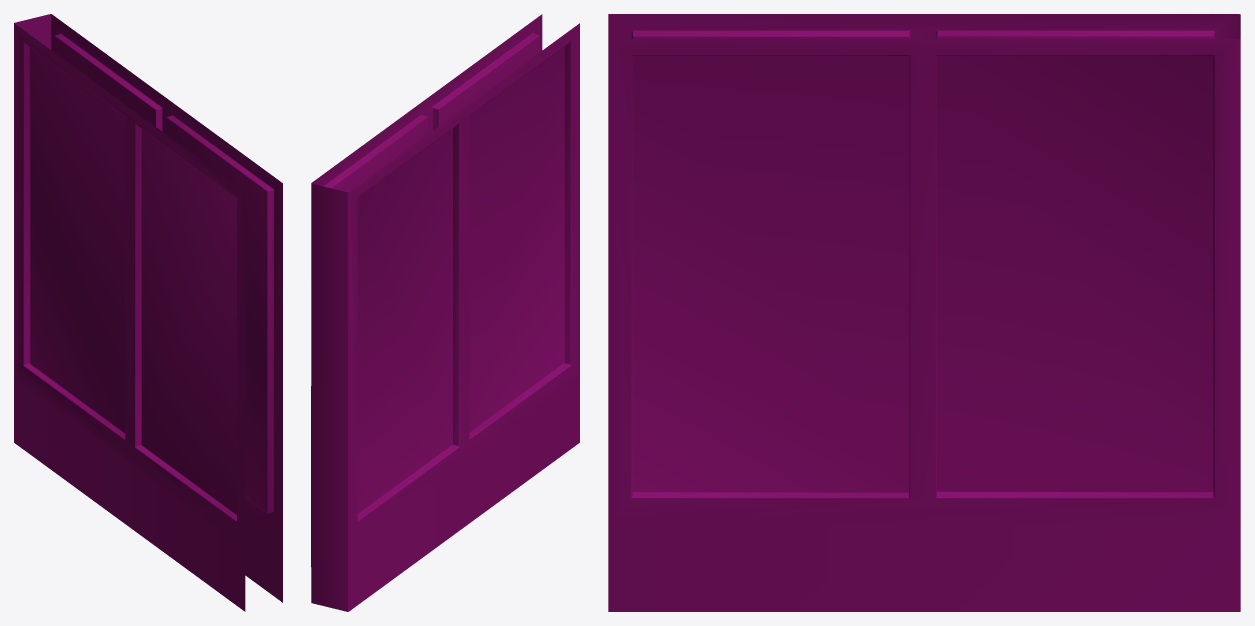
Rendered from BaieVitree.fbx.
The picture shows the model from 3 angles, left to right: view 1: azimuth 30°, elevation 25°; view 2: azimuth 150°, elevation 25°; view 3: azimuth 270°, elevation 25°; orthographic projection. The views are drawn at different scales.
Parts seen in each view (by area): view 1: BaieVitree_Lp001; view 2: BaieVitree_Lp001; view 3: BaieVitree_Lp001.
Part boxes in pixels (box(x1,y1,x2,y2)): BaieVitree_Lp001: box(14, 14, 282, 611); BaieVitree_Lp001: box(311, 14, 579, 611); BaieVitree_Lp001: box(608, 14, 1240, 611).
Bounding box in the file's own units: 4.42 × 47.24 × 47.24.
